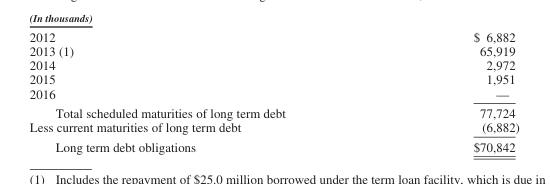table: (28, 29, 518, 153)
table column: (28, 29, 378, 153), (378, 29, 518, 153)
table row: (28, 102, 518, 119), (28, 119, 518, 136), (28, 136, 518, 153), (28, 86, 518, 102), (28, 71, 518, 86), (28, 29, 518, 43), (28, 43, 518, 57), (28, 57, 518, 71)
